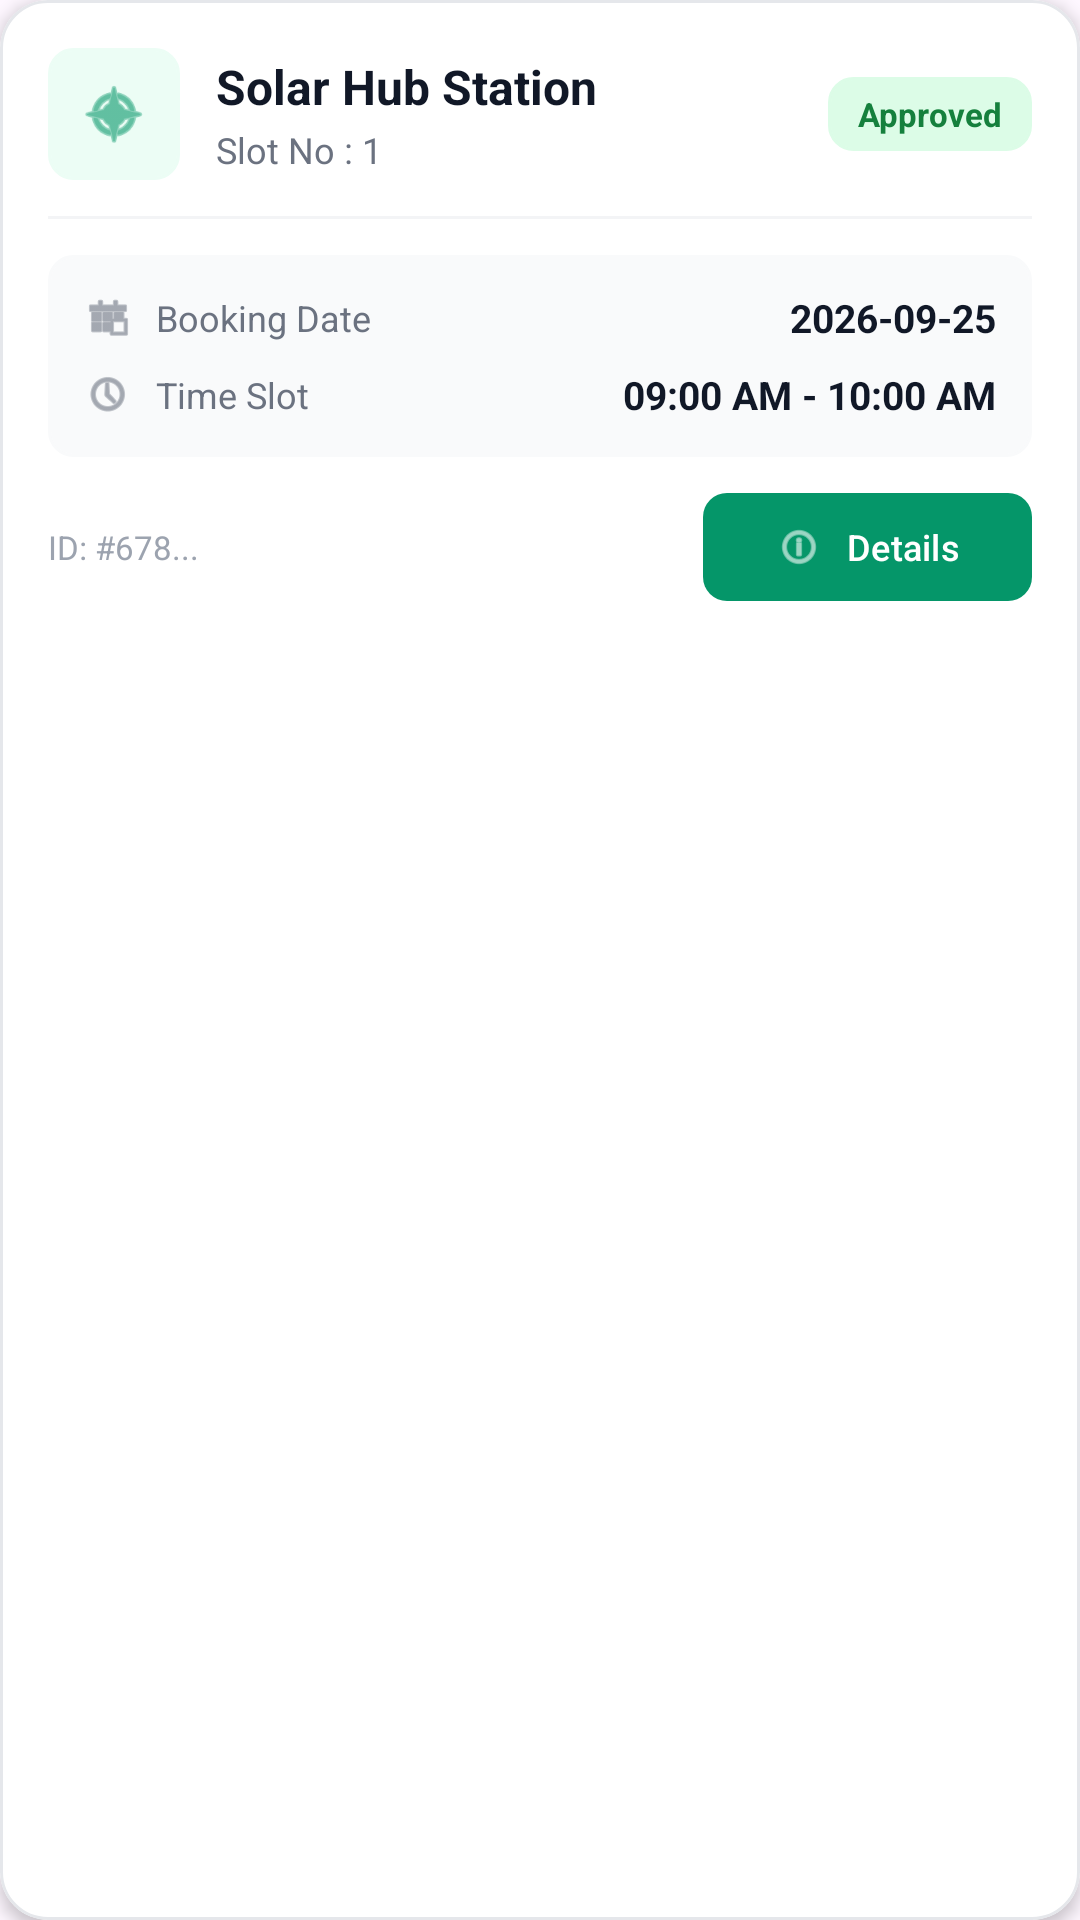

Screen size 1080*1920. Icon name, then its center in pixels as (x=x, y=y):
recent history: (x=107, y=394)
today: (x=108, y=318)
